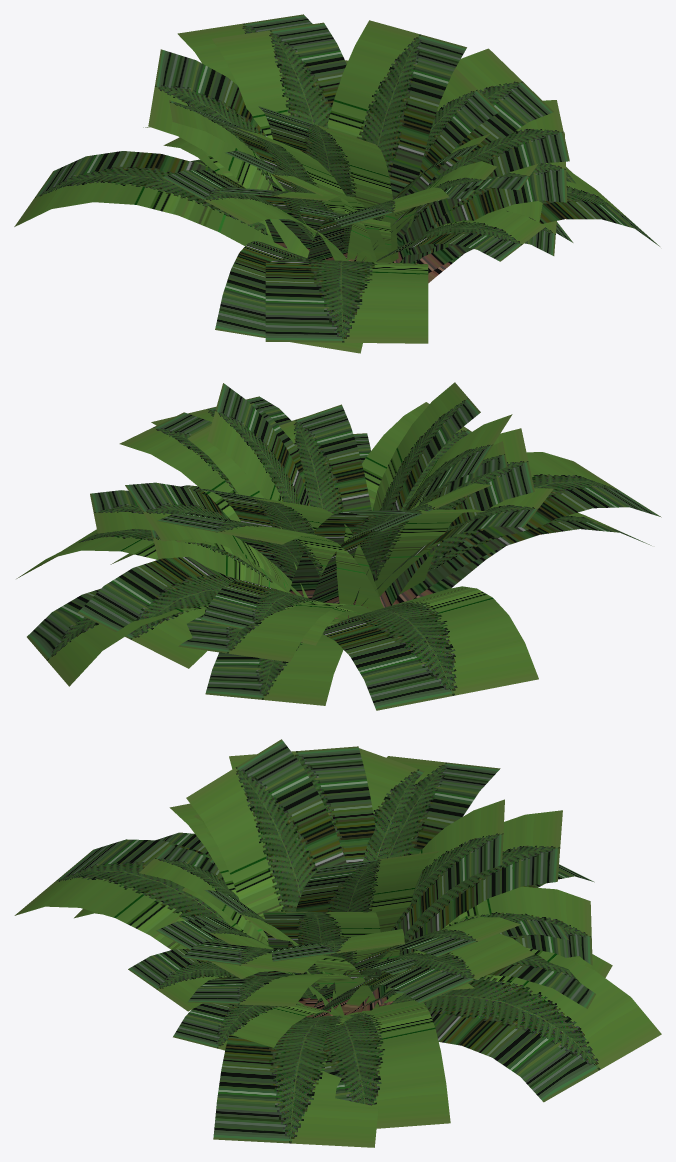
Rendered from hoh_sword_fern.glb.
The picture shows the model from 3 angles, top to bottom: view 1: azimuth 30°, elevation 25°; view 2: azimuth 150°, elevation 25°; view 3: azimuth 270°, elevation 25°; orthographic projection. The views are drawn at different scales.
Parts seen in each view (by area): view 1: hoh_sword_fern; view 2: hoh_sword_fern; view 3: hoh_sword_fern.
Boxes of the visible parts, x1=… form: hoh_sword_fern: x1=14, y1=14, x2=659, y2=353; hoh_sword_fern: x1=16, y1=382, x2=661, y2=710; hoh_sword_fern: x1=14, y1=739, x2=661, y2=1147.
Size of the model in its own units: 1.71 by 0.6886 by 1.75.
1 material, 1 textured.
